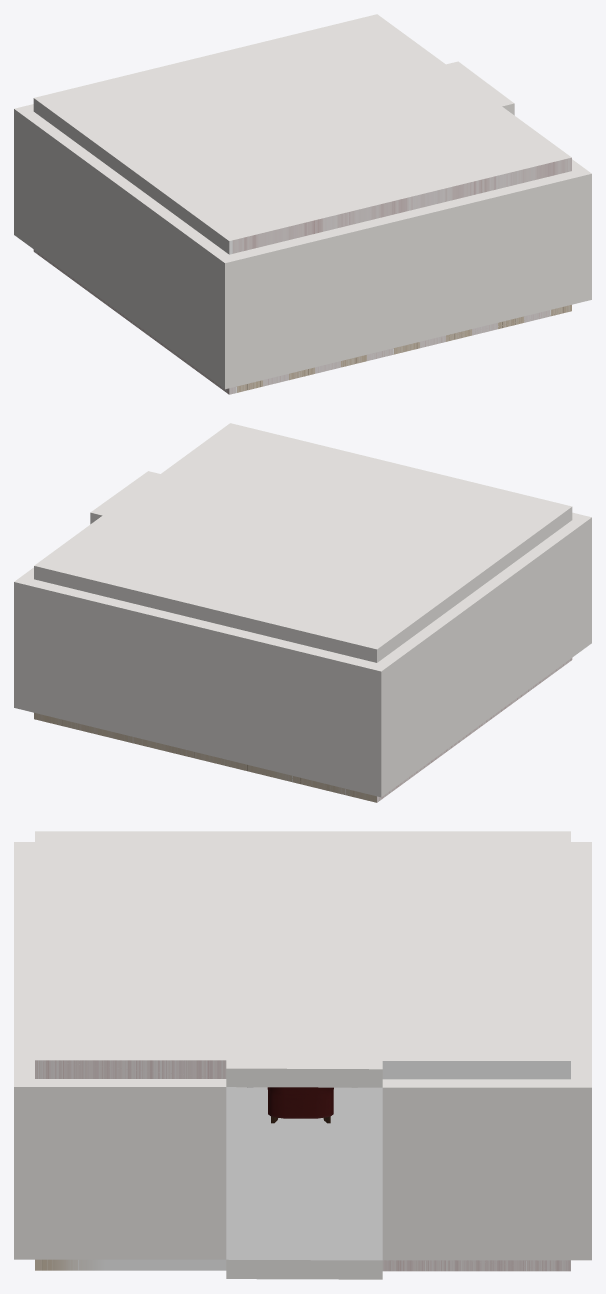
Rendered from block5.fbx.
The picture shows the model from 3 angles, top to bottom: view 1: azimuth 30°, elevation 25°; view 2: azimuth 150°, elevation 25°; view 3: azimuth 270°, elevation 25°; orthographic projection. The views are drawn at different scales.
Parts seen in each view (by area): view 1: room; view 2: room; view 3: room, sofa_02.001.
Part boxes in pixels (left/top/right/bottom): room: left=14, top=14, right=591, bottom=394; room: left=14, top=423, right=591, bottom=802; room: left=14, top=831, right=591, bottom=1279; sofa_02.001: left=267, top=1087, right=333, bottom=1123.
Size of the model in its own units: 1347 by 538 by 1338.
